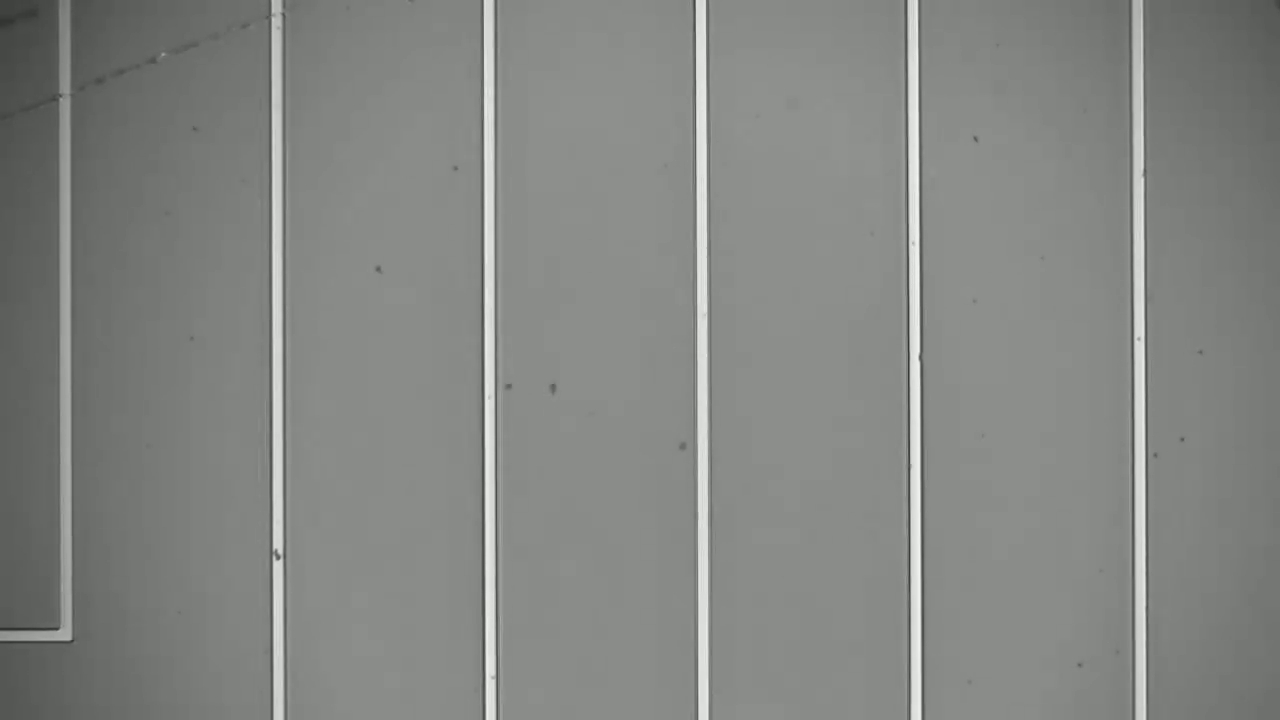scratch: (12, 16, 275, 114)
stains_enbedded: (264, 538, 294, 573)
